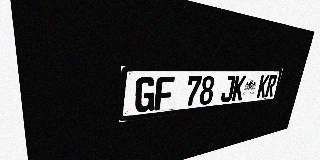7: (184, 76, 202, 107)
8: (198, 76, 216, 105)
F: (154, 76, 175, 111)
G: (134, 77, 156, 113)
J: (220, 75, 236, 103)
K: (231, 75, 246, 101), (256, 75, 270, 98)
R: (265, 75, 278, 97)
